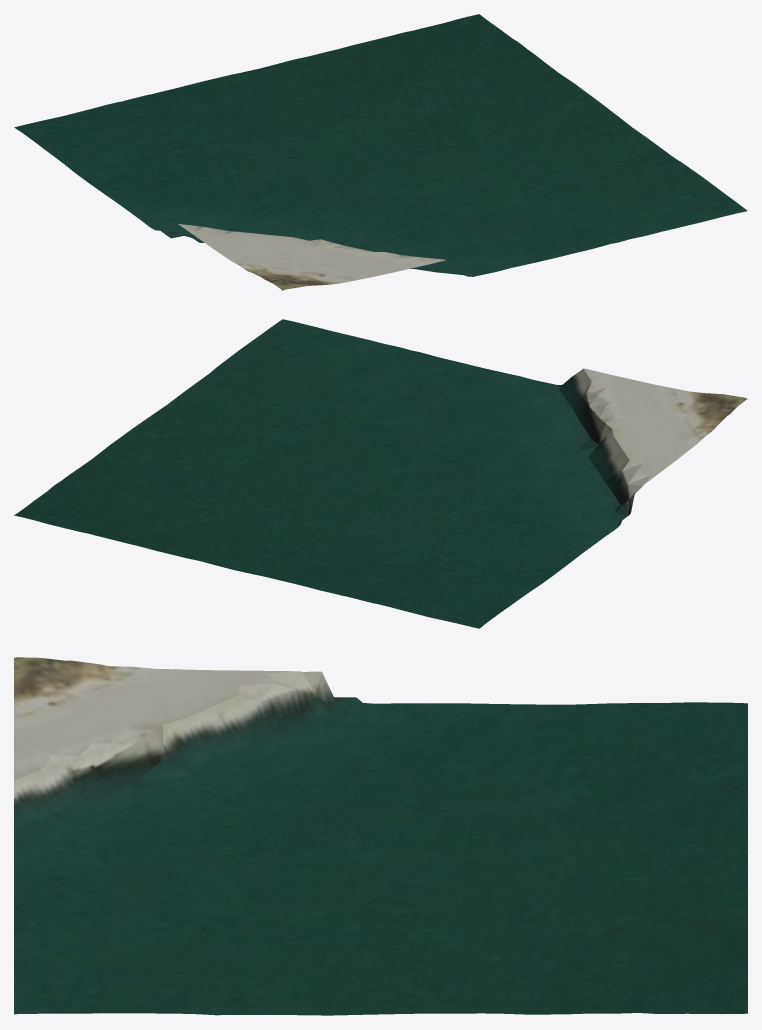
3 renders of one model, top to bottom at view 1: azimuth 30°, elevation 25°; view 2: azimuth 150°, elevation 25°; view 3: azimuth 270°, elevation 25°, orthographic. The views are drawn at different scales.
Size of the model in its own units: 104 by 7.7 by 104.
Materials: 2 (2 with a texture image).
